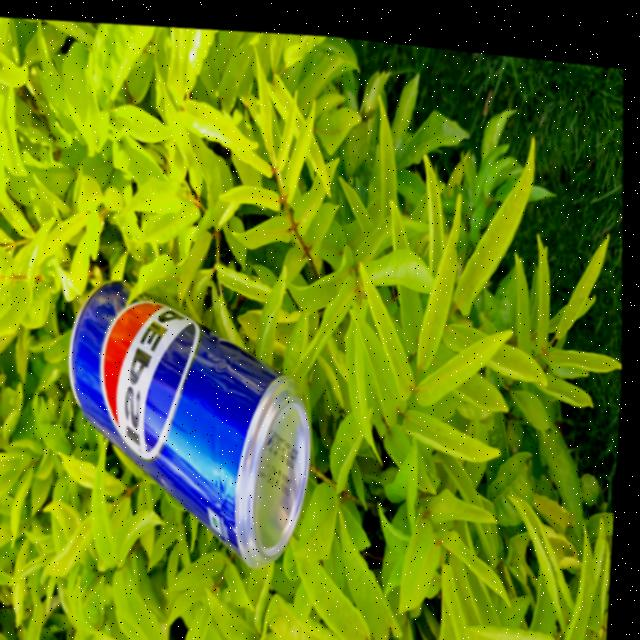Pepsi: (61, 271, 317, 573)
